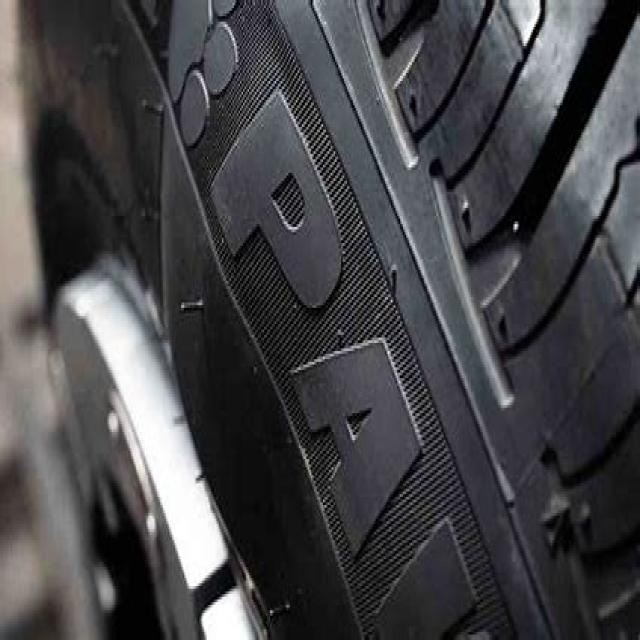Bulge: (155, 0, 321, 599)
